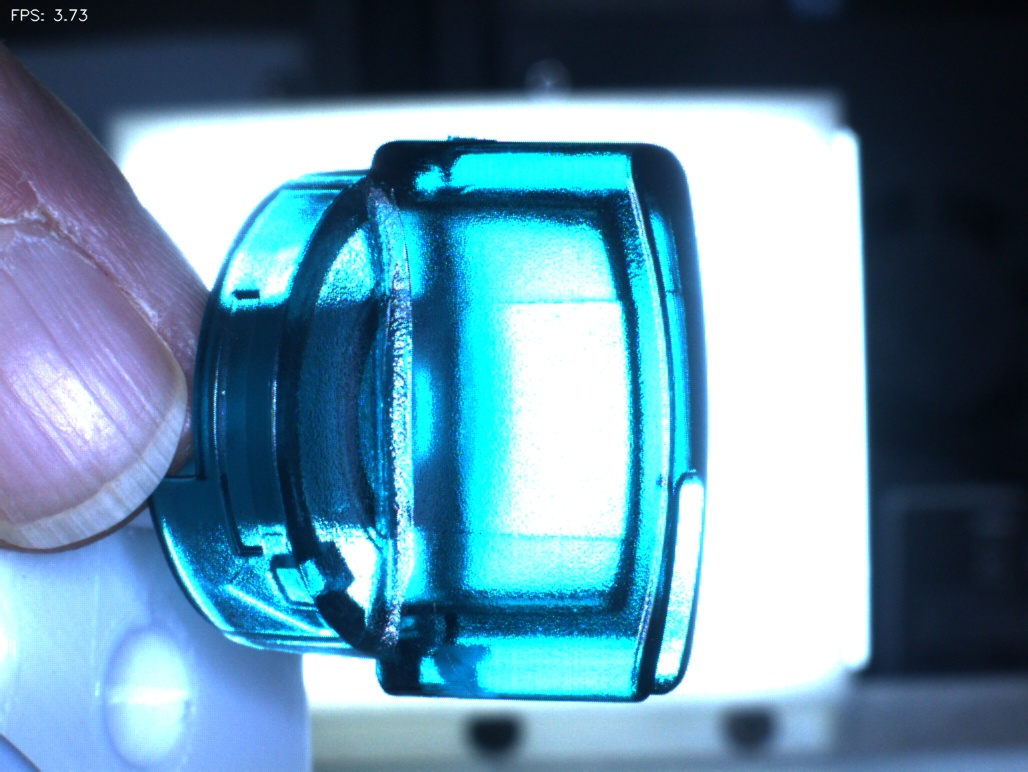Bulle: (396, 115, 483, 204)
